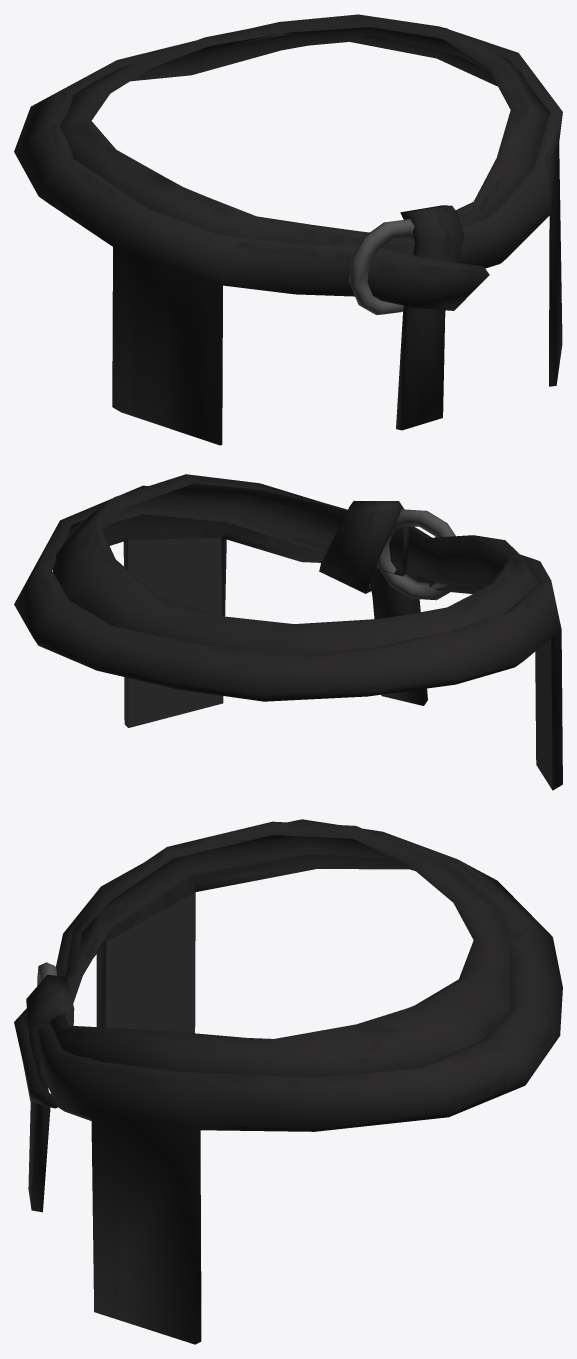
File: Belt 1.fbx
The picture shows the model from 3 angles, top to bottom: view 1: azimuth 30°, elevation 25°; view 2: azimuth 150°, elevation 25°; view 3: azimuth 270°, elevation 25°; orthographic projection. The views are drawn at different scales.
Parts seen in each view (by area): view 1: Medieval Belt.obj; view 2: Medieval Belt.obj; view 3: Medieval Belt.obj.
Boxes of the visible parts, x1,y1,x2,y2 form: Medieval Belt.obj: (14,14,562,445); Medieval Belt.obj: (14,474,562,790); Medieval Belt.obj: (14,819,562,1344).
Bounding box in the file's own units: 34.35 × 18.32 × 30.3.
